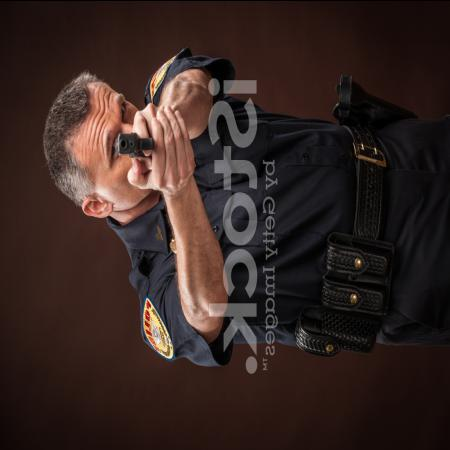Pistol: (113, 130, 159, 154)
